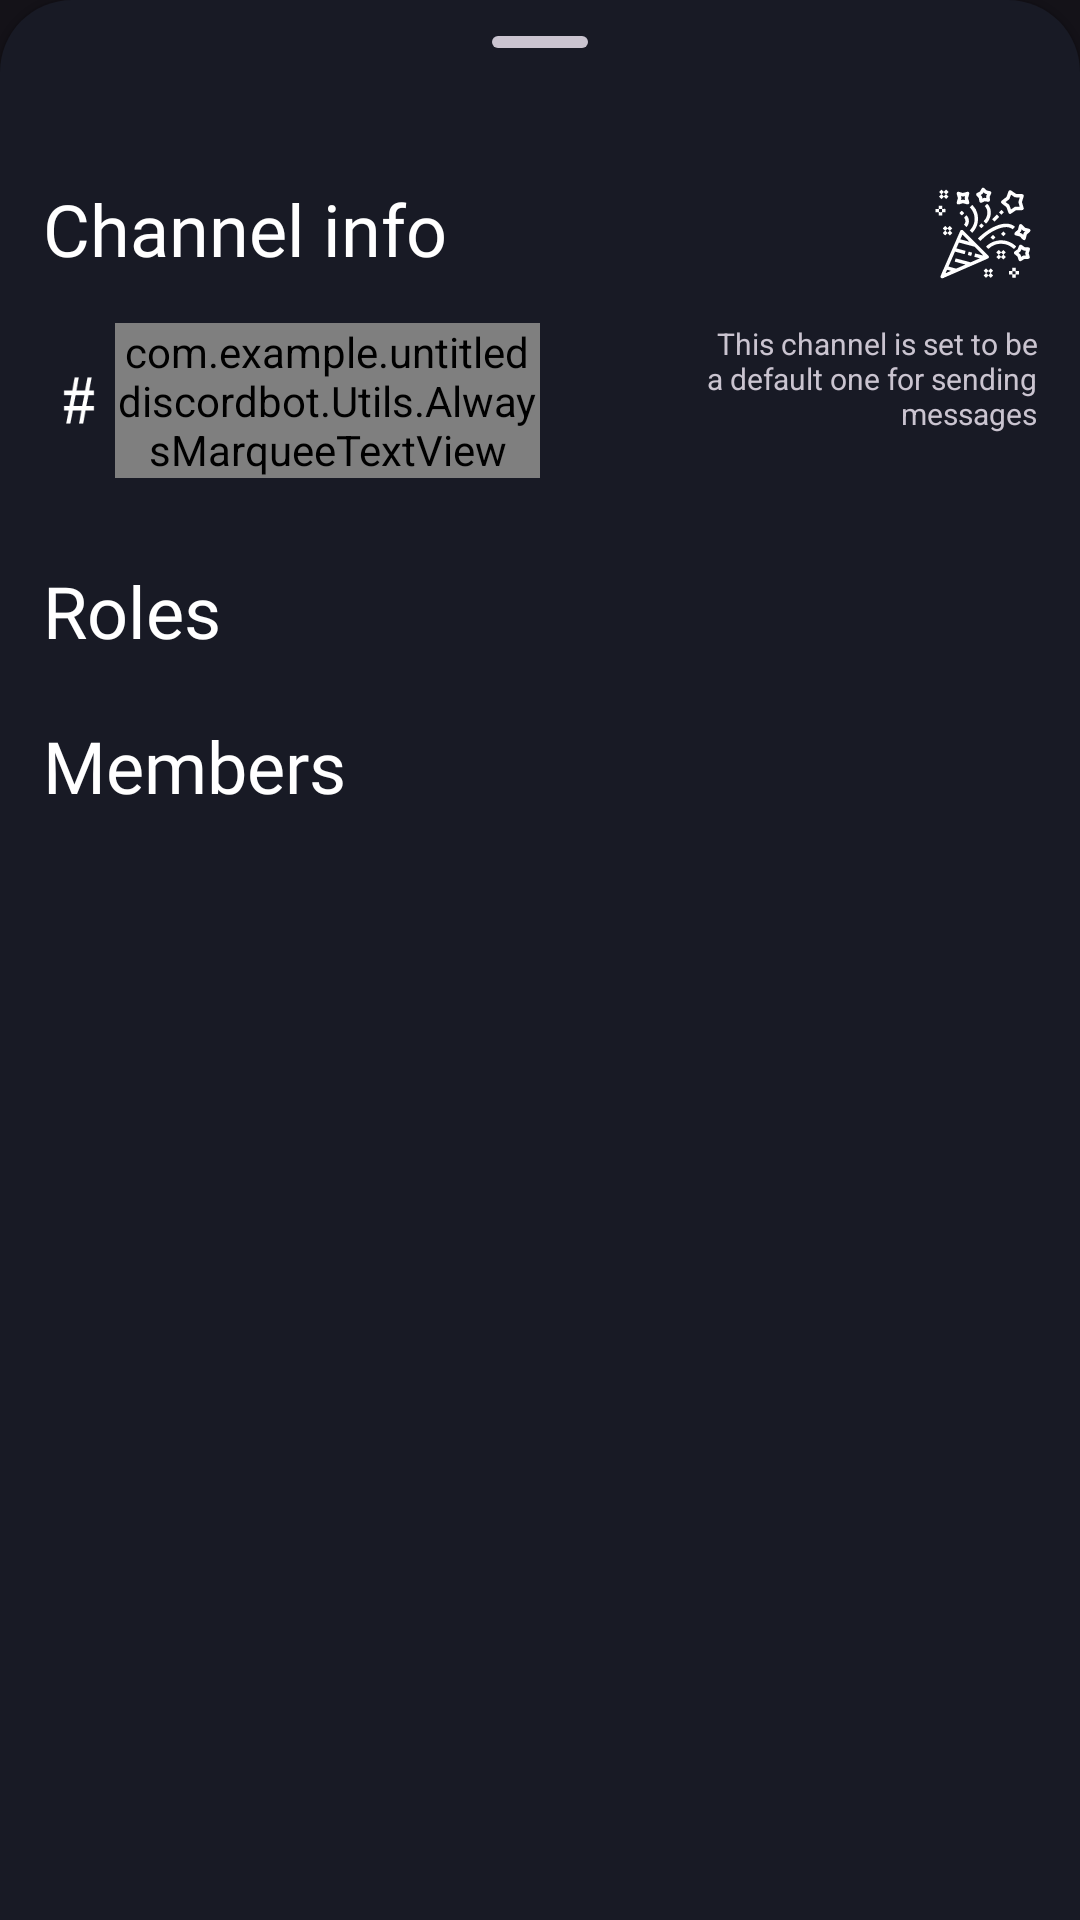

Where icons sit on this 1080 x 1920 app screen, as (x1, y1, x2, y2):
confetti: (935, 187, 1031, 279)
